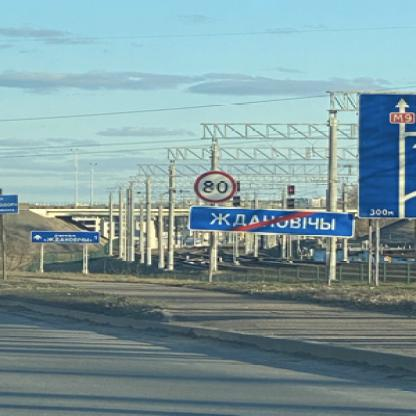speedlimit: (190, 170, 236, 200)
